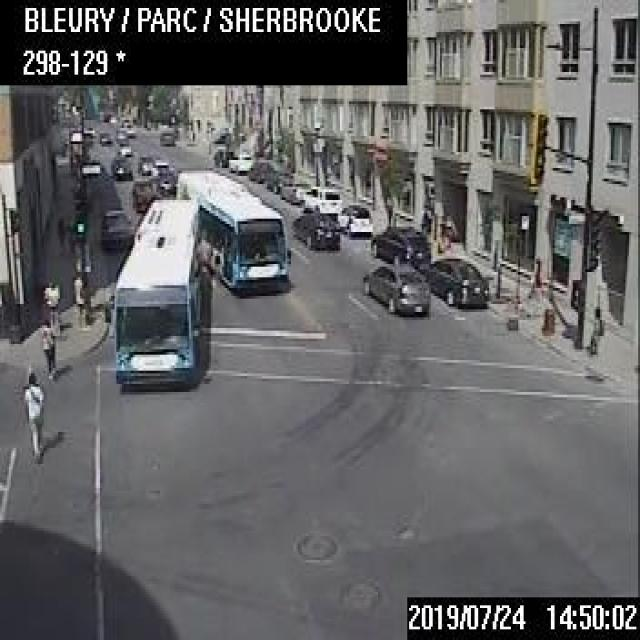bus: (103, 198, 203, 386), (174, 167, 289, 290)
pedestrian: (21, 370, 43, 461), (42, 279, 60, 336), (40, 318, 55, 378), (71, 272, 86, 329), (587, 304, 603, 354), (525, 253, 540, 299), (55, 210, 65, 252), (418, 202, 430, 232)
vehicle: (417, 255, 487, 306), (362, 261, 429, 312), (370, 224, 430, 264), (290, 212, 338, 246), (99, 207, 133, 246), (334, 202, 371, 234), (301, 184, 340, 213), (130, 176, 156, 210), (278, 177, 310, 202), (263, 168, 292, 191), (246, 158, 272, 181), (109, 152, 131, 178), (155, 167, 174, 193), (227, 151, 251, 170), (136, 152, 152, 174), (152, 158, 170, 176), (158, 125, 173, 144), (116, 138, 130, 154), (98, 128, 110, 144), (114, 127, 127, 141)
